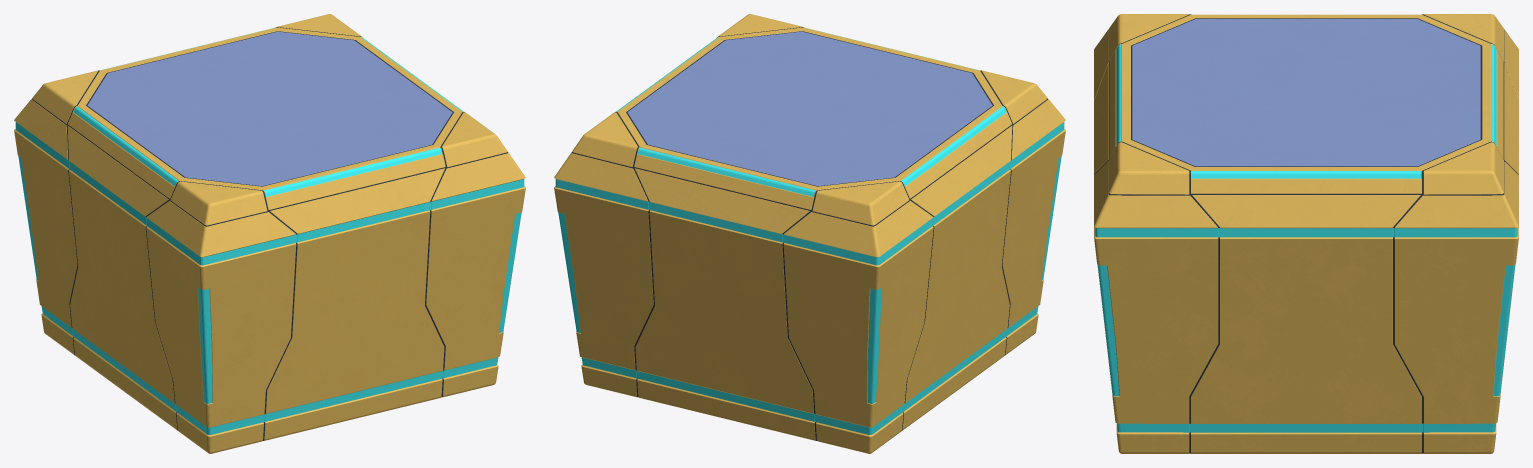
The model's file is PlatformD.fbx.
3 renders of one model, left to right at view 1: azimuth 30°, elevation 25°; view 2: azimuth 150°, elevation 25°; view 3: azimuth 270°, elevation 25°, orthographic. The views are drawn at different scales.
Visible parts, largest first — view 1: SM_VA_PlatformD.mo; view 2: SM_VA_PlatformD.mo; view 3: SM_VA_PlatformD.mo.
Part boxes in pixels (<box>): SM_VA_PlatformD.mo: <box>14,14,525,453</box>; SM_VA_PlatformD.mo: <box>554,14,1065,453</box>; SM_VA_PlatformD.mo: <box>1094,14,1518,453</box>.
Bounding box in the file's own units: 17 × 12.5 × 17.
